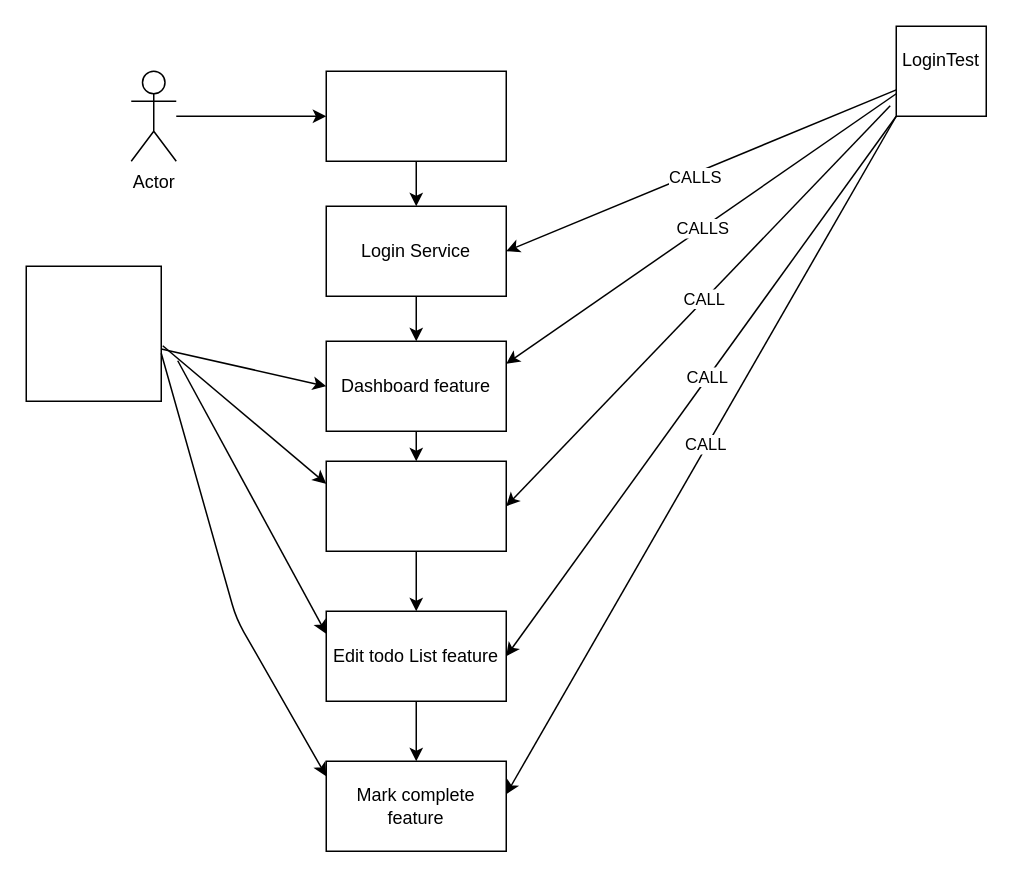
This 1013x878 diagram has some shape labels left out. The shapes that lost their labels are listed below. From the top down, each one's centre as x and y in pixels, then its label:
pixel 415 115: Requirement
pixel 93 333: DashboardTest
pixel 415 505: Add todo feature
